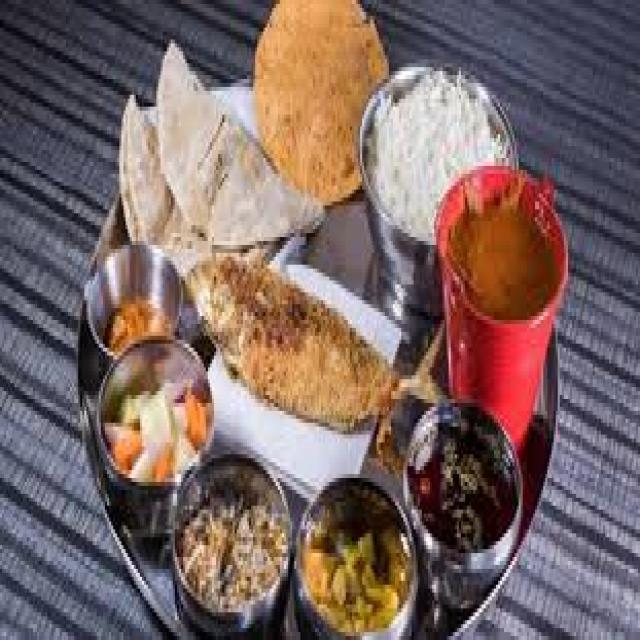rice: (368, 63, 504, 238)
roti: (189, 237, 386, 443)
sambar-rasam: (444, 151, 570, 338)
sweet: (92, 341, 208, 508)
